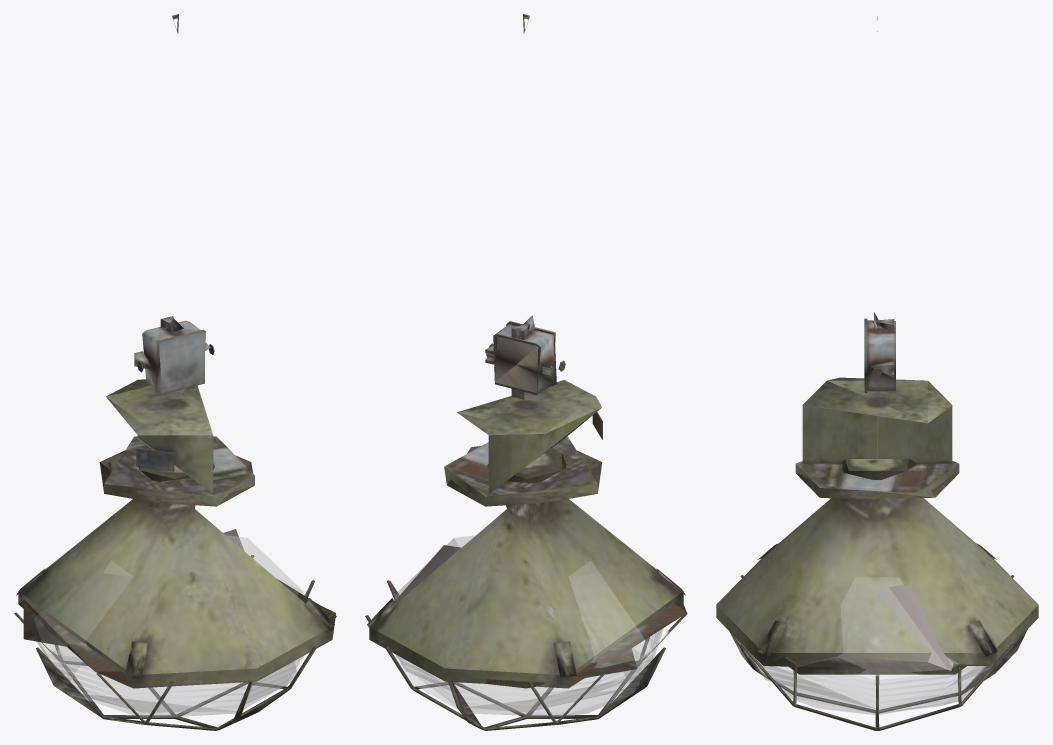
The model's file is hanging_industrial_lamp.glb.
The picture shows the model from 3 angles, left to right: view 1: azimuth 30°, elevation 25°; view 2: azimuth 150°, elevation 25°; view 3: azimuth 270°, elevation 25°; orthographic projection.
Visible parts, largest first — view 1: hanging_industrial_lamp; view 2: hanging_industrial_lamp; view 3: hanging_industrial_lamp.
Boxes of the visible parts, x1,y1,x2,y2 form: hanging_industrial_lamp: (14,14,336,730); hanging_industrial_lamp: (365,14,687,730); hanging_industrial_lamp: (716,16,1038,730).
Size of the model in its own units: 0.5428 by 1.31 by 0.5496.
Materials: 2 (1 with a texture image).
